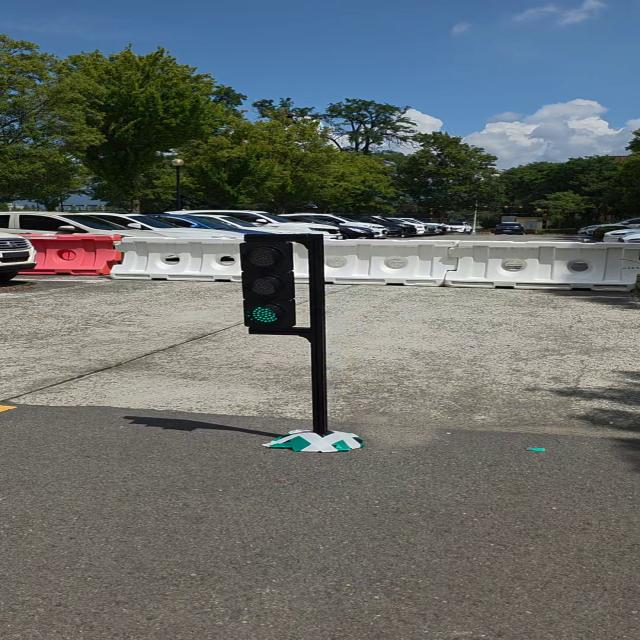green: (240, 246, 293, 332)
